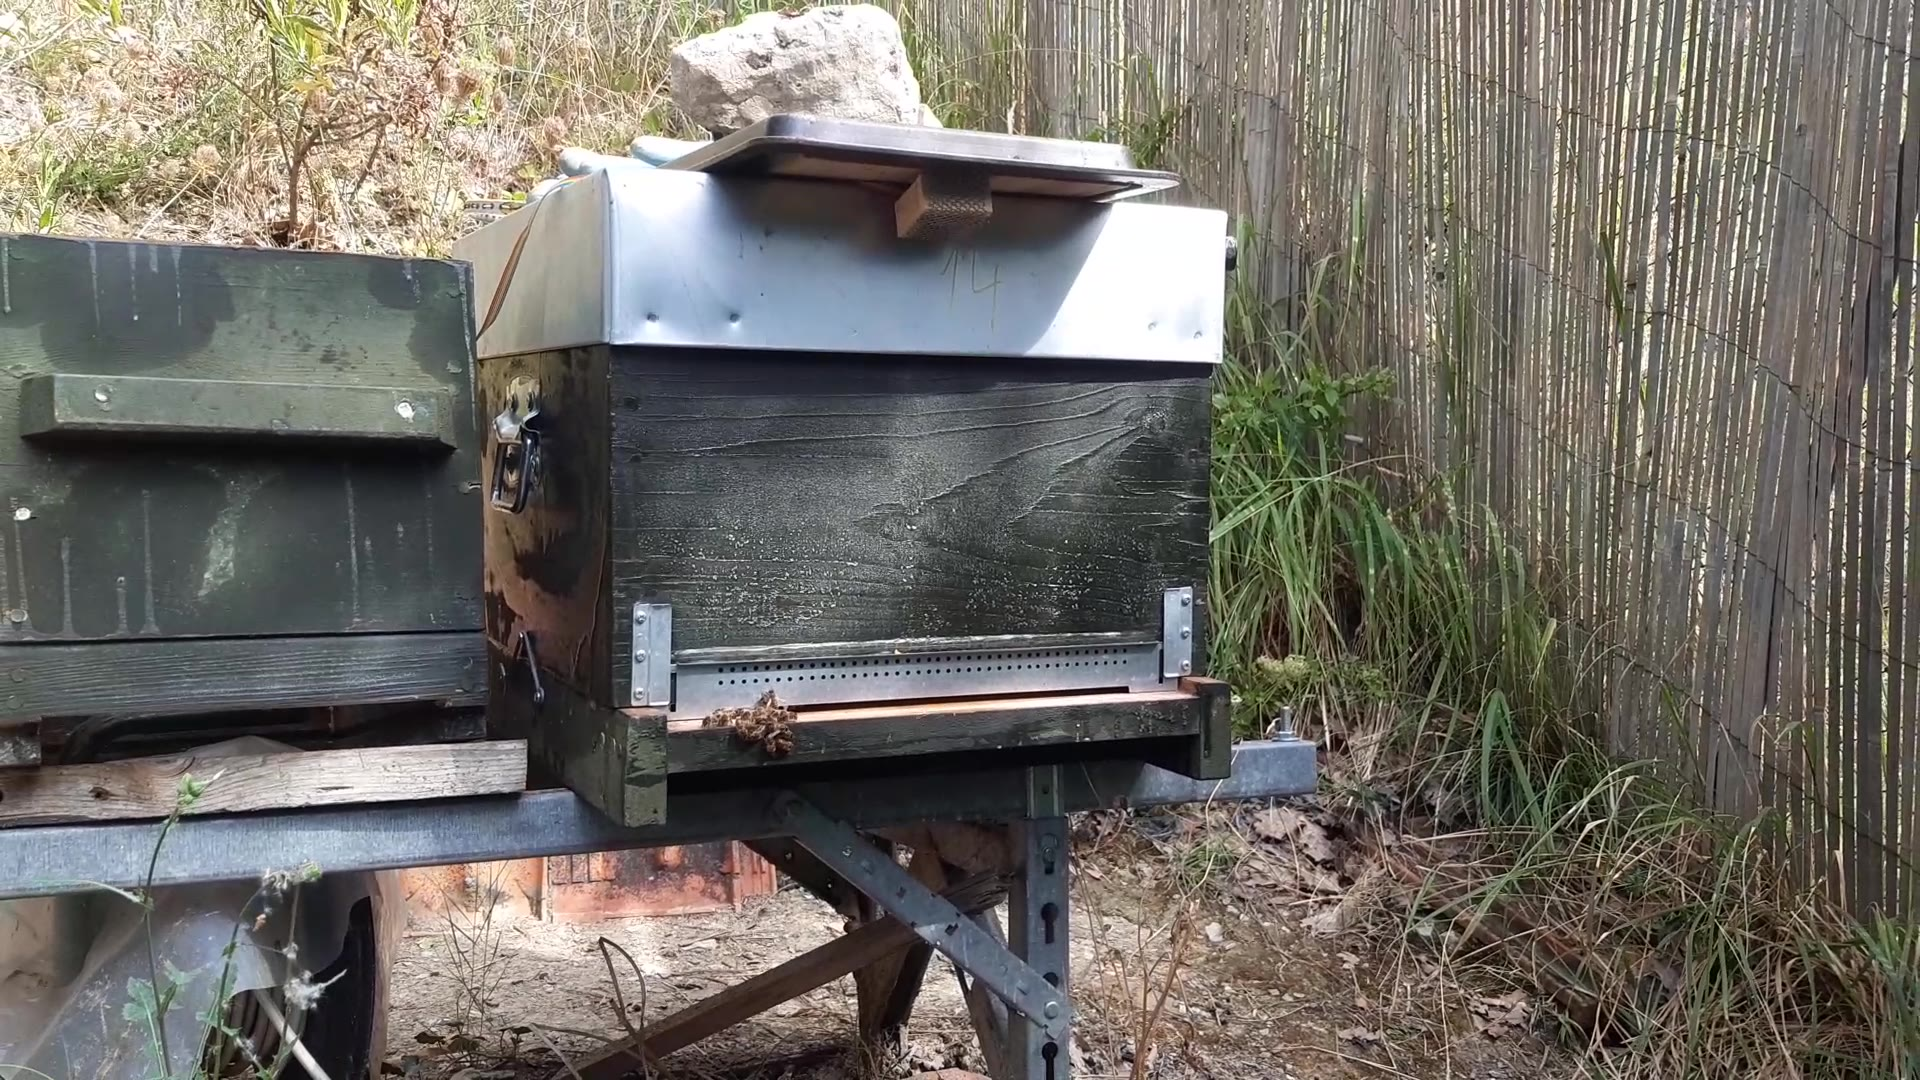bee: (740, 688, 802, 762), (702, 704, 737, 729)
